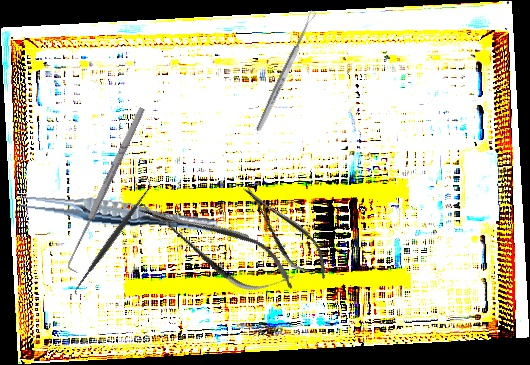Hook Surgical: (62, 105, 153, 274)
Micro Scissor: (128, 181, 306, 311), (232, 174, 339, 290)
Spatula Surgical: (66, 178, 160, 297)
Surgical Spoon: (254, 9, 318, 133)
Tissue Forceps: (13, 189, 220, 237)
